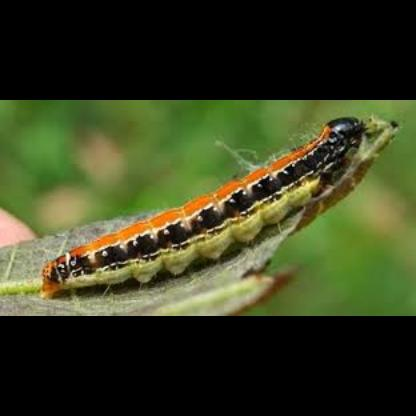oruga: (37, 168, 379, 246)
